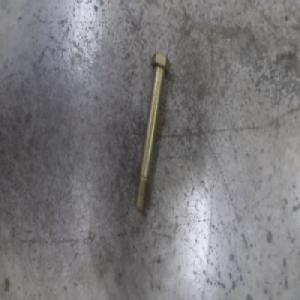Bolt: (133, 50, 170, 213)
